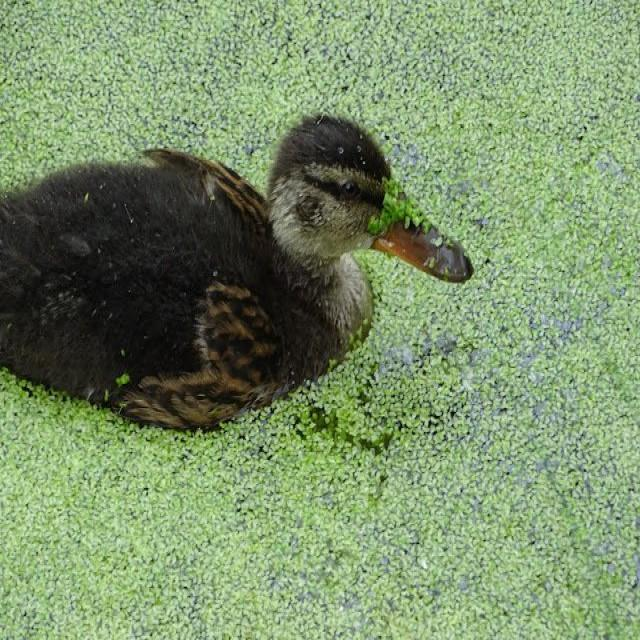Duck: (2, 108, 484, 452)
